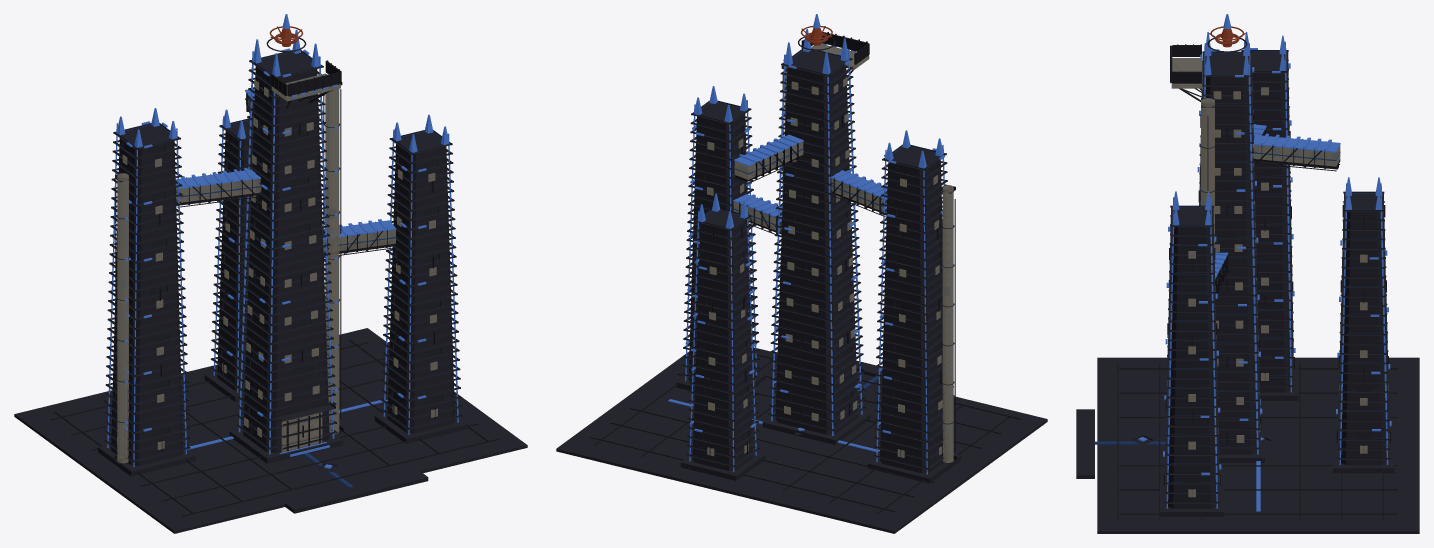
The model's file is career-ext-draft-s30.glb.
3 views of the same model, side by side, from view 1: azimuth 30°, elevation 25°; view 2: azimuth 150°, elevation 25°; view 3: azimuth 270°, elevation 25° (orthographic). The views are drawn at different scales.
Visible parts, largest first — view 1: networking_plaza_dark_connector_slab, s30_career_dark_floor_plate_ledge_system, main_tower_tapered_40_floor_body, secondary_west_tower_tapered_34_floor_body, secondary_east_tower_tapered_30_floor_body, secondary_north_tower_tapered_27_floor_body, main_tower_exterior_transparent_elevator_tube, s30_career_dark_spandrel_facade_panels, s30_networking_plaza_subtle_tile_grid, secondary_west_exterior_transparent_elevator_tube, s30_career_recessed_glass_window_panel_rhythm, networking_plaza_front_arrival_step (+18 smaller); view 2: networking_plaza_dark_connector_slab, s30_career_dark_floor_plate_ledge_system, main_tower_tapered_40_floor_body, secondary_west_tower_tapered_34_floor_body, secondary_north_tower_tapered_27_floor_body, secondary_east_tower_tapered_30_floor_body, s30_career_dark_spandrel_facade_panels, s30_career_recessed_glass_window_panel_rhythm, secondary_west_exterior_transparent_elevator_tube, s30_networking_plaza_subtle_tile_grid, main_tower_electric_blue_floor_joint_bands, s30_career_blue_ascent_trim_ticks (+13 smaller); view 3: networking_plaza_dark_connector_slab, s30_career_dark_floor_plate_ledge_system, main_tower_tapered_40_floor_body, secondary_east_tower_tapered_30_floor_body, secondary_north_tower_tapered_27_floor_body, secondary_west_tower_tapered_34_floor_body, s30_career_dark_spandrel_facade_panels, s30_networking_plaza_subtle_tile_grid, s30_career_recessed_glass_window_panel_rhythm, main_tower_exterior_transparent_elevator_tube, networking_plaza_front_arrival_step, s30_career_blue_ascent_trim_ticks (+17 smaller).
Boxes of the visible parts, x1,y1,x2,y2 form: networking_plaza_dark_connector_slab: [14, 328, 527, 533]; s30_career_dark_floor_plate_ledge_system: [104, 50, 461, 462]; main_tower_tapered_40_floor_body: [243, 52, 329, 452]; secondary_west_tower_tapered_34_floor_body: [111, 125, 183, 465]; secondary_east_tower_tapered_30_floor_body: [387, 132, 454, 433]; secondary_north_tower_tapered_27_floor_body: [217, 120, 253, 391]; main_tower_exterior_transparent_elevator_tube: [325, 89, 339, 434]; s30_career_dark_spandrel_facade_panels: [116, 79, 442, 438]; s30_networking_plaza_subtle_tile_grid: [50, 340, 499, 516]; secondary_west_exterior_transparent_elevator_tube: [117, 173, 128, 463]; s30_career_recessed_glass_window_panel_rhythm: [117, 80, 437, 449]; networking_plaza_front_arrival_step: [285, 470, 428, 513]; networking_plaza_dark_connector_slab: [556, 347, 1047, 533]; s30_career_dark_floor_plate_ledge_system: [682, 48, 955, 469]; main_tower_tapered_40_floor_body: [775, 50, 858, 434]; secondary_west_tower_tapered_34_floor_body: [880, 146, 943, 473]; secondary_north_tower_tapered_27_floor_body: [692, 210, 753, 470]; secondary_east_tower_tapered_30_floor_body: [688, 102, 752, 382]; s30_career_dark_spandrel_facade_panels: [703, 76, 943, 446]; s30_career_recessed_glass_window_panel_rhythm: [707, 75, 943, 457]; secondary_west_exterior_transparent_elevator_tube: [942, 185, 953, 462]; s30_networking_plaza_subtle_tile_grid: [590, 354, 1020, 514]; main_tower_electric_blue_floor_joint_bands: [773, 50, 859, 428]; s30_career_blue_ascent_trim_ticks: [685, 53, 944, 433]; networking_plaza_dark_connector_slab: [1097, 357, 1419, 533]; s30_career_dark_floor_plate_ledge_system: [1164, 50, 1390, 503]; main_tower_tapered_40_floor_body: [1205, 53, 1256, 454]; secondary_east_tower_tapered_30_floor_body: [1168, 207, 1216, 508]; secondary_north_tower_tapered_27_floor_body: [1341, 193, 1386, 465]; secondary_west_tower_tapered_34_floor_body: [1252, 52, 1290, 392]; s30_career_dark_spandrel_facade_panels: [1166, 73, 1388, 483]; s30_networking_plaza_subtle_tile_grid: [1117, 363, 1397, 519]; s30_career_recessed_glass_window_panel_rhythm: [1167, 75, 1389, 497]; main_tower_exterior_transparent_elevator_tube: [1201, 98, 1214, 247]; networking_plaza_front_arrival_step: [1076, 409, 1094, 478]; s30_career_blue_ascent_trim_ticks: [1163, 48, 1391, 475].
Size of the model in its own units: 15.8 by 18.36 by 13.21.
